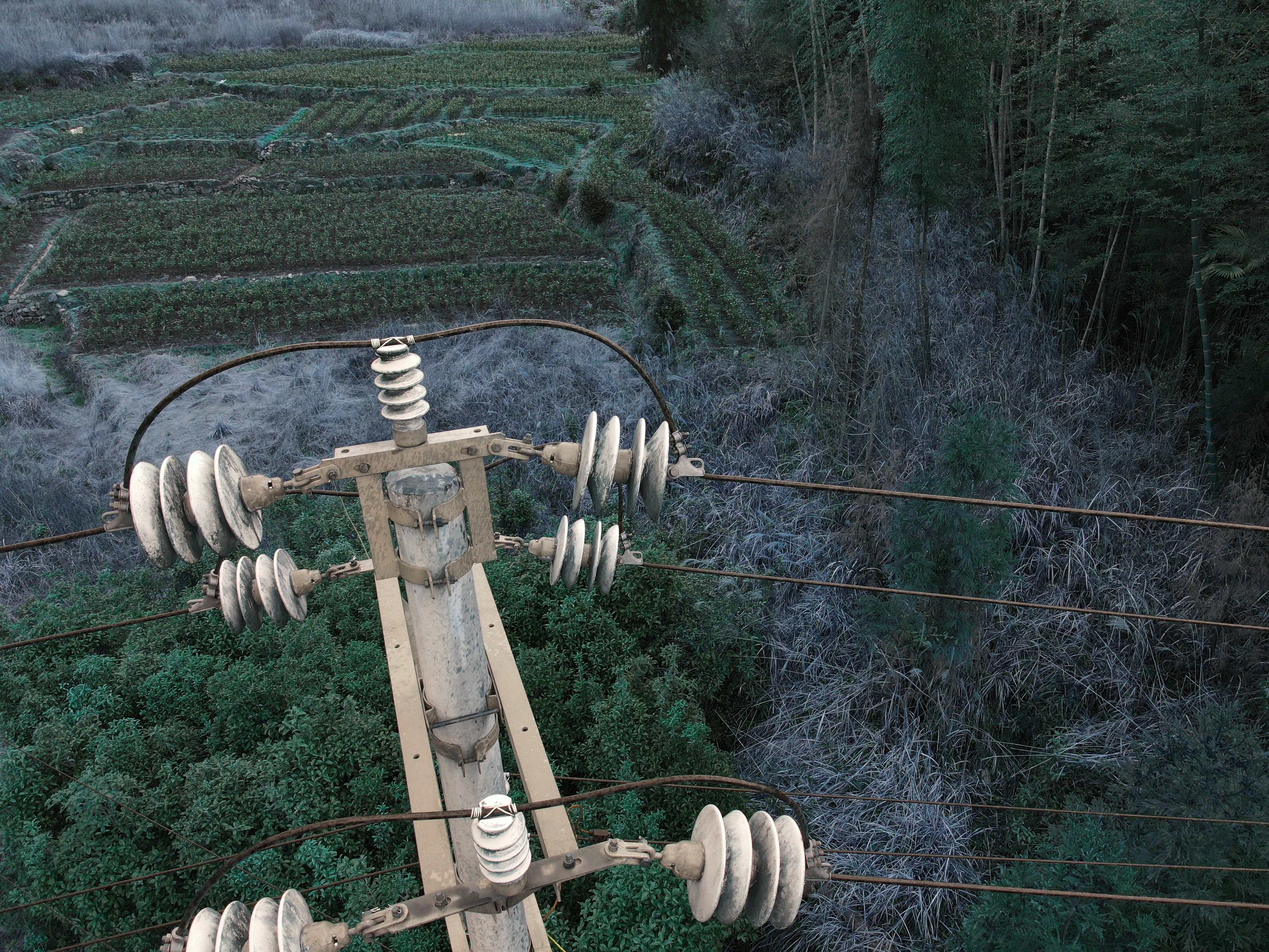severe_soiling_no_discharge_whole: (127, 442, 280, 567), (662, 803, 810, 931), (546, 406, 673, 521), (188, 881, 354, 951), (215, 547, 323, 635), (528, 516, 624, 594), (368, 339, 434, 445), (469, 795, 536, 899)
